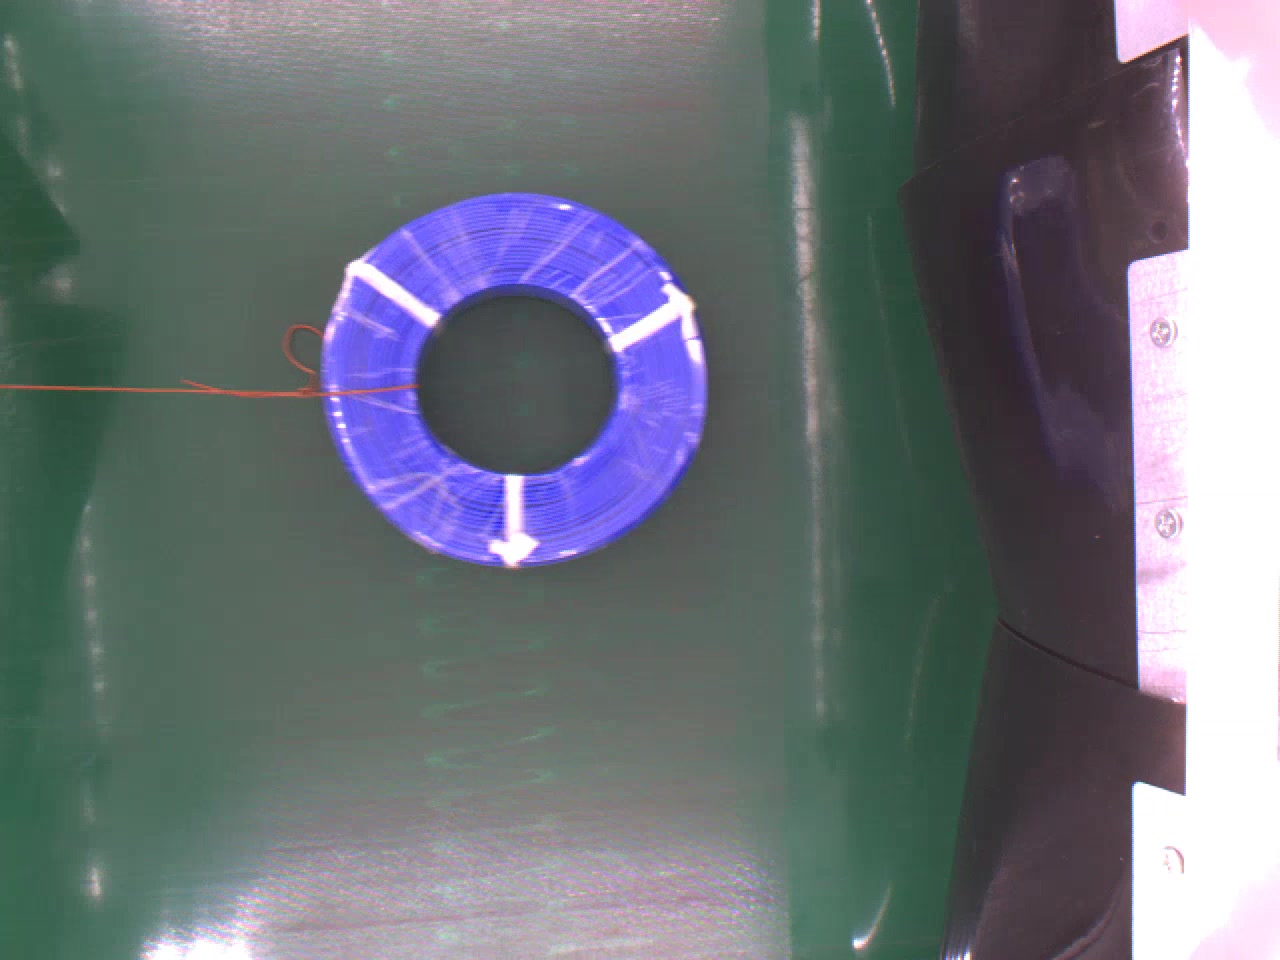blue: (317, 188, 708, 566)
